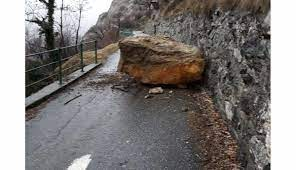obstacle: (115, 32, 207, 87)
